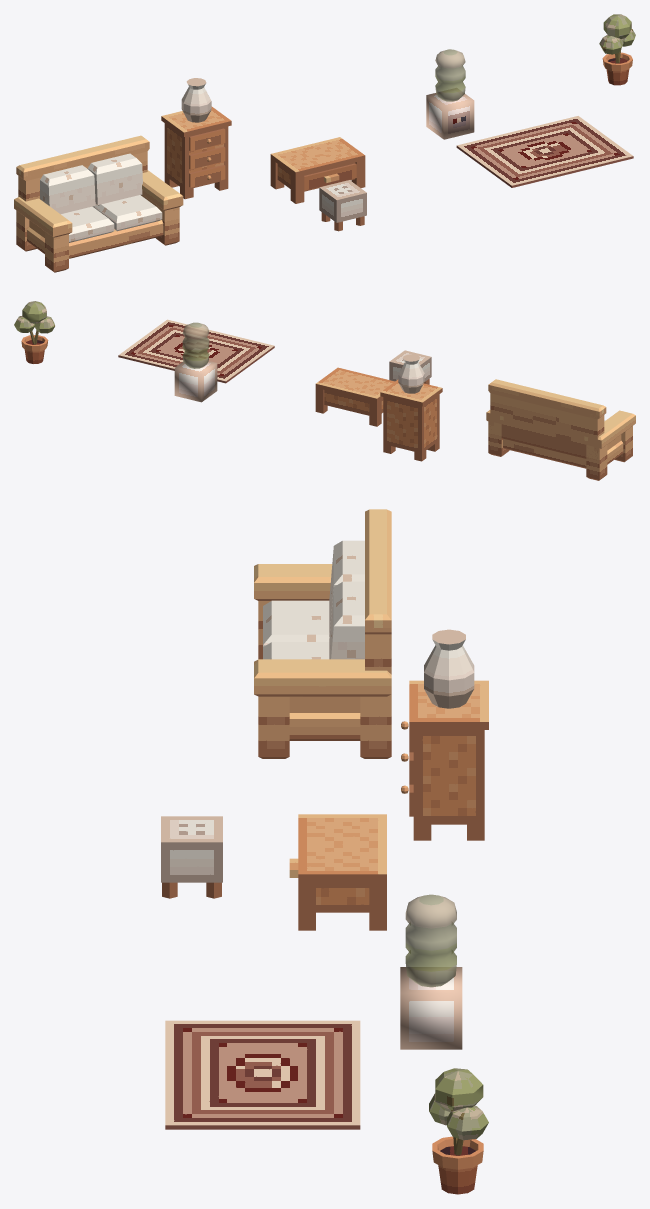
Rendered from inside_stage01.glb.
3 views of the same model, one above another, from view 1: azimuth 30°, elevation 25°; view 2: azimuth 150°, elevation 25°; view 3: azimuth 270°, elevation 25° (orthographic). The views are drawn at different scales.
Visible parts, largest first — view 1: armrest, rug.001, chest_top, table_top, disp_base.002, stool1_cush, pot.001; view 2: armrest, rug.001, chest_top, table_top, disp_base.002, pot.001, stool1_cush; view 3: armrest, rug.001, chest_top, table_top, disp_base.002, pot.001, stool1_cush.
Part boxes in pixels (<box>): armrest: <box>14,135,183,272</box>; rug.001: <box>456,116,633,187</box>; chest_top: <box>161,78,231,199</box>; table_top: <box>270,137,365,203</box>; disp_base.002: <box>426,49,474,139</box>; stool1_cush: <box>319,180,366,231</box>; pot.001: <box>599,14,635,85</box>; armrest: <box>486,379,635,480</box>; rug.001: <box>118,319,274,383</box>; chest_top: <box>380,354,442,461</box>; table_top: <box>315,367,394,426</box>; disp_base.002: <box>174,322,217,402</box>; pot.001: <box>14,301,54,363</box>; stool1_cush: <box>389,350,431,384</box>; armrest: <box>254,509,391,758</box>; rug.001: <box>165,1020,360,1129</box>; chest_top: <box>401,629,488,840</box>; table_top: <box>289,814,386,930</box>; disp_base.002: <box>400,894,462,1049</box>; pot.001: <box>429,1068,488,1194</box>; stool1_cush: <box>161,816,222,898</box>.
Size of the model in its own units: 9.23 by 1.44 by 2.31.
Materials: 20 (20 with a texture image).
